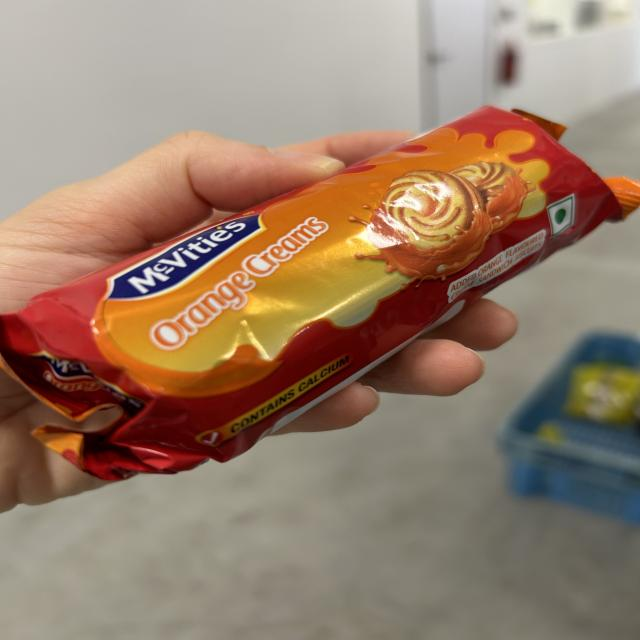object_name: (104, 111, 550, 406)
